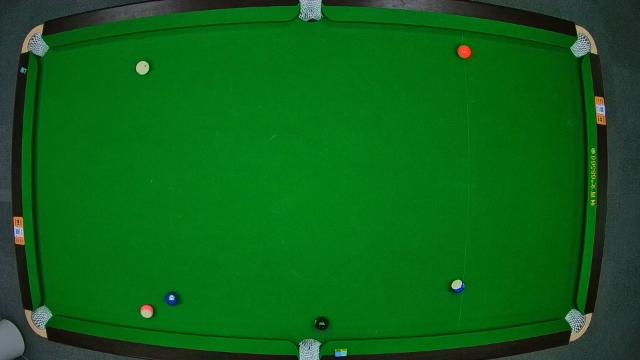bag1: (27, 35, 45, 53)
bag2: (300, 0, 322, 20)
bag3: (574, 38, 592, 54)
bag4: (33, 307, 49, 327)
bag5: (298, 340, 322, 360)
bag6: (567, 311, 585, 333)
ball0: (136, 60, 150, 76)
ball10: (452, 280, 466, 295)
ball12: (142, 304, 154, 318)
ball2: (166, 290, 180, 306)
ball5: (458, 44, 472, 60)
ball8: (314, 314, 331, 330)
